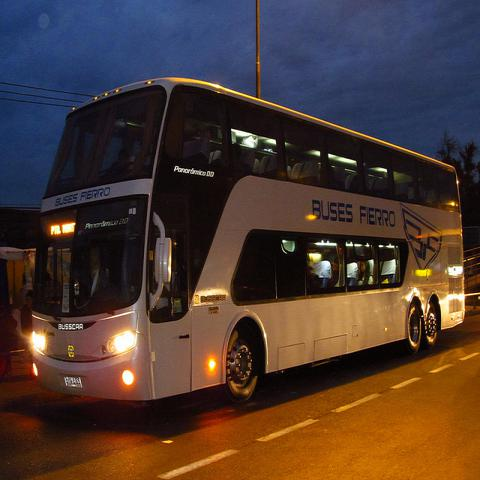bus: (29, 76, 466, 403)
